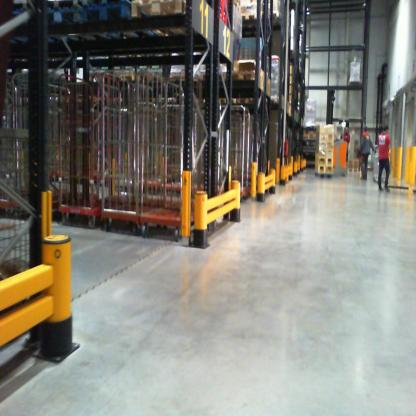forklift: (320, 83, 351, 179)
pallet: (129, 0, 224, 54), (34, 8, 109, 58), (79, 6, 163, 49), (4, 6, 58, 56), (235, 11, 265, 35), (229, 68, 260, 85), (200, 68, 230, 83), (111, 69, 136, 86), (213, 94, 236, 107), (237, 95, 266, 105)
